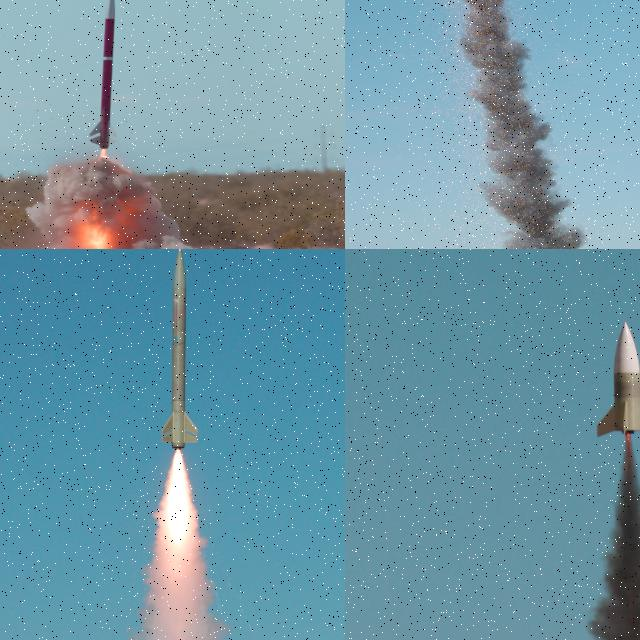Rocket: (160, 249, 201, 449), (595, 320, 640, 438), (89, 0, 118, 150)
